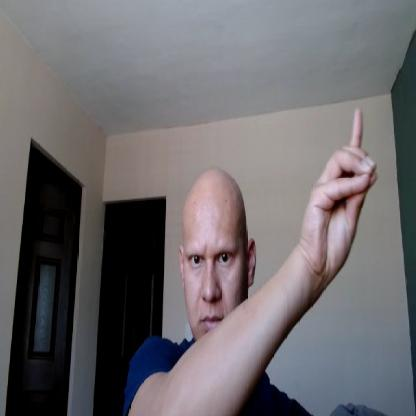D: (301, 104, 381, 284)
